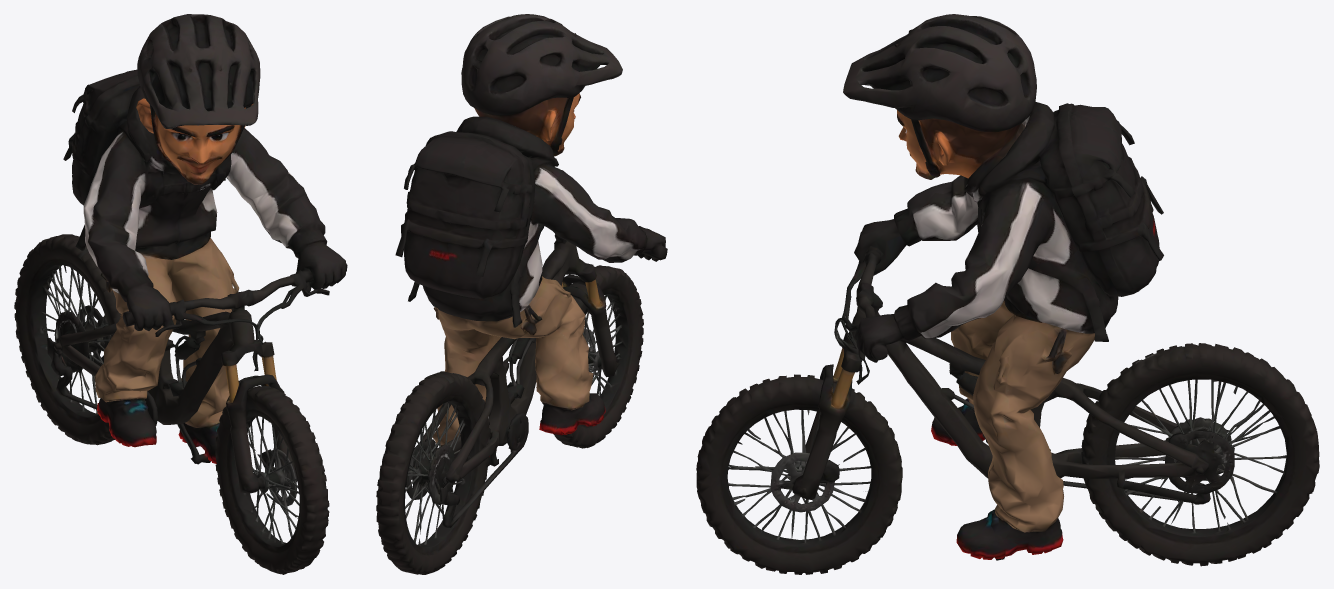
File: bike.glb
3 views of the same model, side by side, from view 1: azimuth 30°, elevation 25°; view 2: azimuth 150°, elevation 25°; view 3: azimuth 270°, elevation 25° (orthographic). The views are drawn at different scales.
Parts seen in each view (by area): view 1: bike; view 2: bike; view 3: bike.
Boxes of the visible parts, x1,y1,x2,y2 form: bike: (14,14,347,574); bike: (376,14,667,574); bike: (696,14,1319,574).
Bounding box in the file's own units: 0.5374 × 1.15 × 1.18.
Materials: 1 (1 with a texture image).
